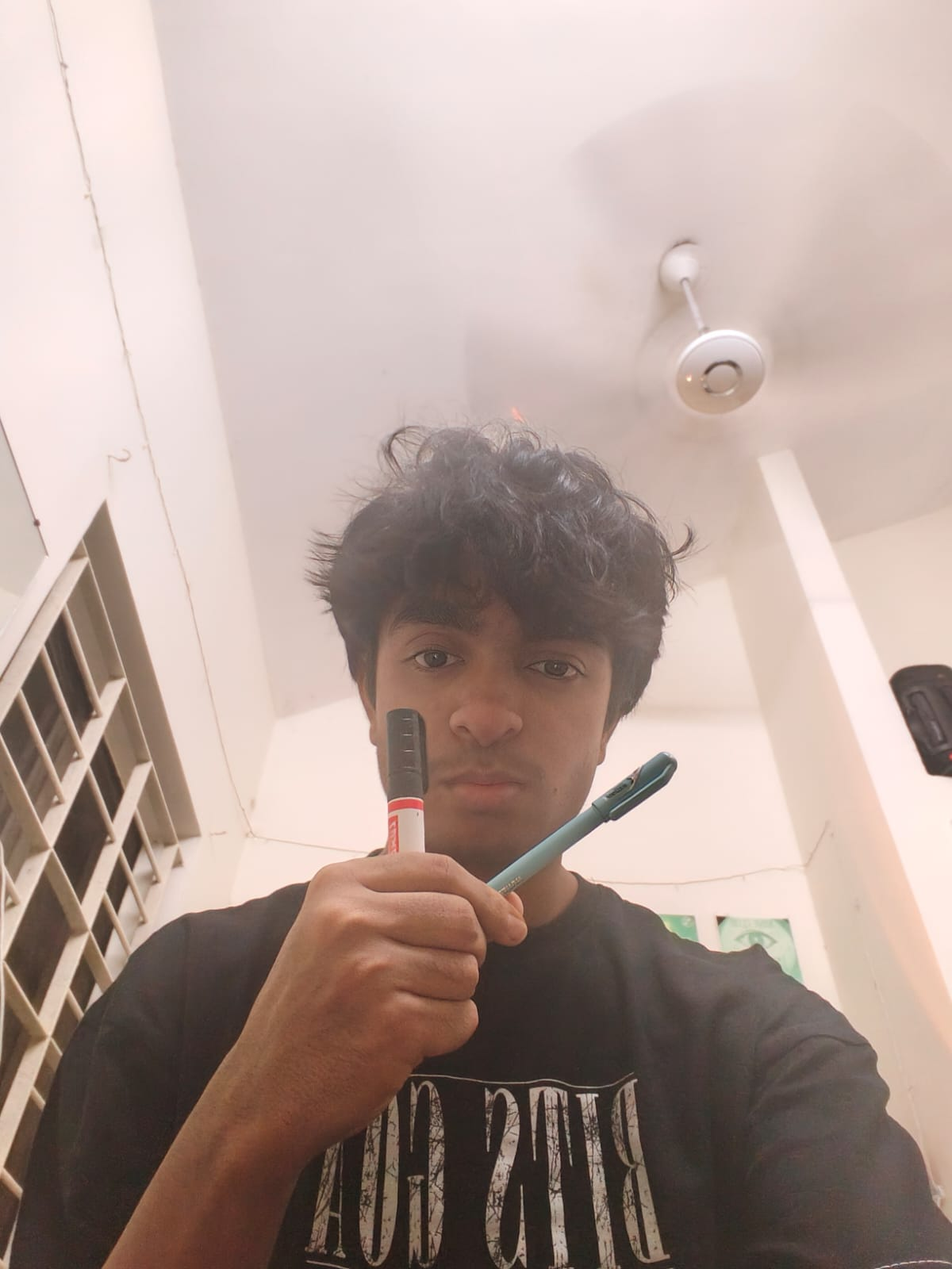case: (383, 701, 447, 871)
pen: (493, 737, 693, 893)
